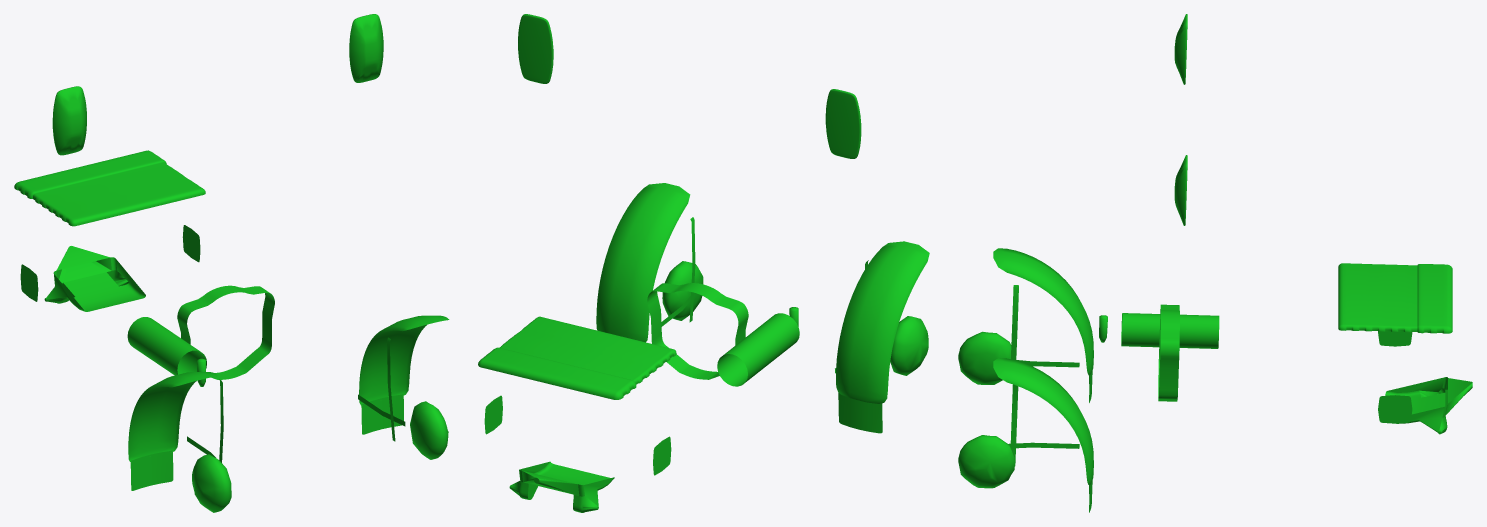
Rendered from Tractor MTZ COLLIDERS.fbx.
3 views of the same model, side by side, from view 1: azimuth 30°, elevation 25°; view 2: azimuth 150°, elevation 25°; view 3: azimuth 270°, elevation 25° (orthographic). The views are drawn at different scales.
Parts seen in each view (by area): view 1: Chassis Back COL, Front Wheel System R COL, Front Wheel System L COL, Mirror L COL, Mirror R COL; view 2: Chassis Back COL, Front Wheel System R COL, Front Wheel System L COL, Mirror R COL, Mirror L COL; view 3: Chassis Back COL, Front Wheel System L COL, Front Wheel System R COL, Mirror L COL, Mirror R COL.
Boxes of the visible parts, box(x1,y1,x2,y2) form: Chassis Back COL: box(14, 150, 274, 386); Front Wheel System R COL: box(128, 372, 231, 512); Front Wheel System L COL: box(358, 315, 449, 459); Mirror L COL: box(349, 14, 383, 82); Mirror R COL: box(52, 86, 86, 155); Chassis Back COL: box(478, 283, 799, 512); Front Wheel System R COL: box(835, 241, 929, 433); Front Wheel System L COL: box(596, 183, 703, 342); Mirror R COL: box(825, 89, 861, 158); Mirror L COL: box(518, 14, 553, 83); Chassis Back COL: box(1099, 263, 1472, 434); Front Wheel System L COL: box(958, 358, 1093, 512); Front Wheel System R COL: box(958, 248, 1093, 402); Mirror L COL: box(1174, 155, 1187, 225); Mirror R COL: box(1174, 14, 1187, 84).
Bounding box in the file's own units: 2201 × 2356 × 3048.
